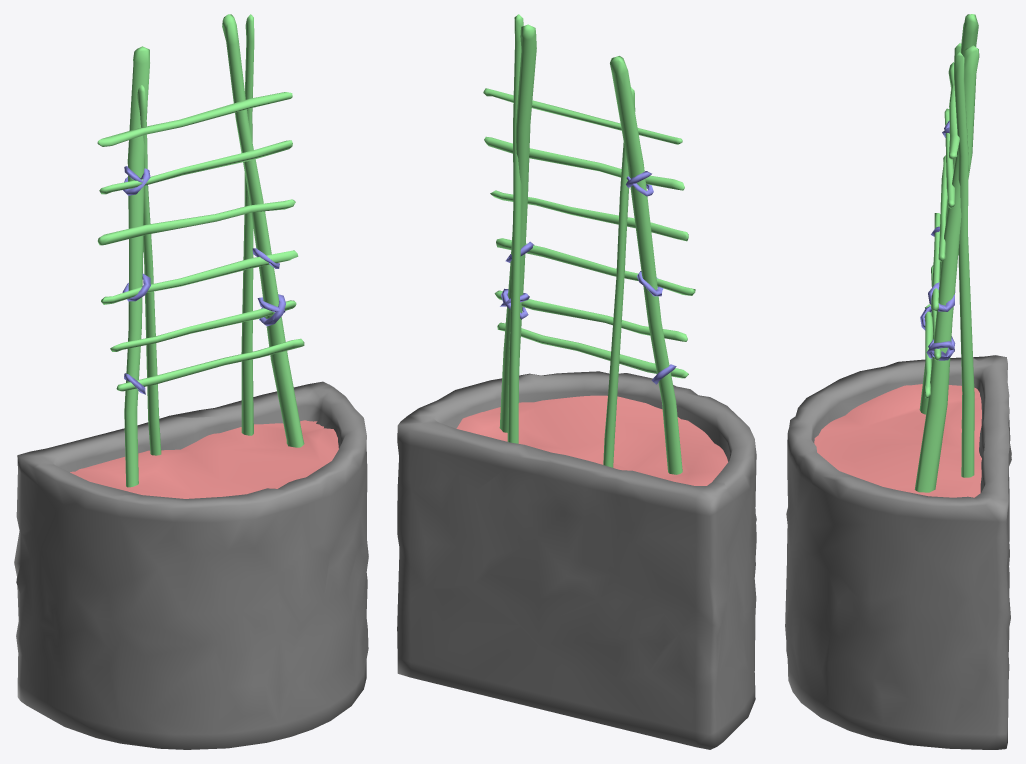
Rendered from SM_Building_Umbar_Aux_FlowerPot_A.gltf.
3 renders of one model, left to right at view 1: azimuth 30°, elevation 25°; view 2: azimuth 150°, elevation 25°; view 3: azimuth 270°, elevation 25°, orthographic. The views are drawn at different scales.
Visible parts, largest first — view 1: SM_Building_Umbar_Aux_FlowerPot_A; view 2: SM_Building_Umbar_Aux_FlowerPot_A; view 3: SM_Building_Umbar_Aux_FlowerPot_A.
Part boxes in pixels (x1=…): SM_Building_Umbar_Aux_FlowerPot_A: x1=14, y1=14, x2=368, y2=749; SM_Building_Umbar_Aux_FlowerPot_A: x1=397, y1=14, x2=756, y2=749; SM_Building_Umbar_Aux_FlowerPot_A: x1=785, y1=14, x2=1011, y2=749.
Bounding box in the file's own units: 2.03 × 4.02 × 1.27.
